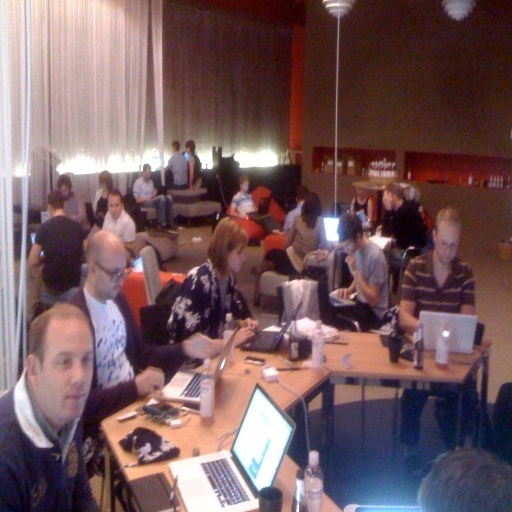hand: (181, 330, 217, 361), (137, 366, 166, 397), (234, 325, 254, 349), (239, 314, 259, 333), (343, 251, 356, 274), (334, 287, 350, 300)
